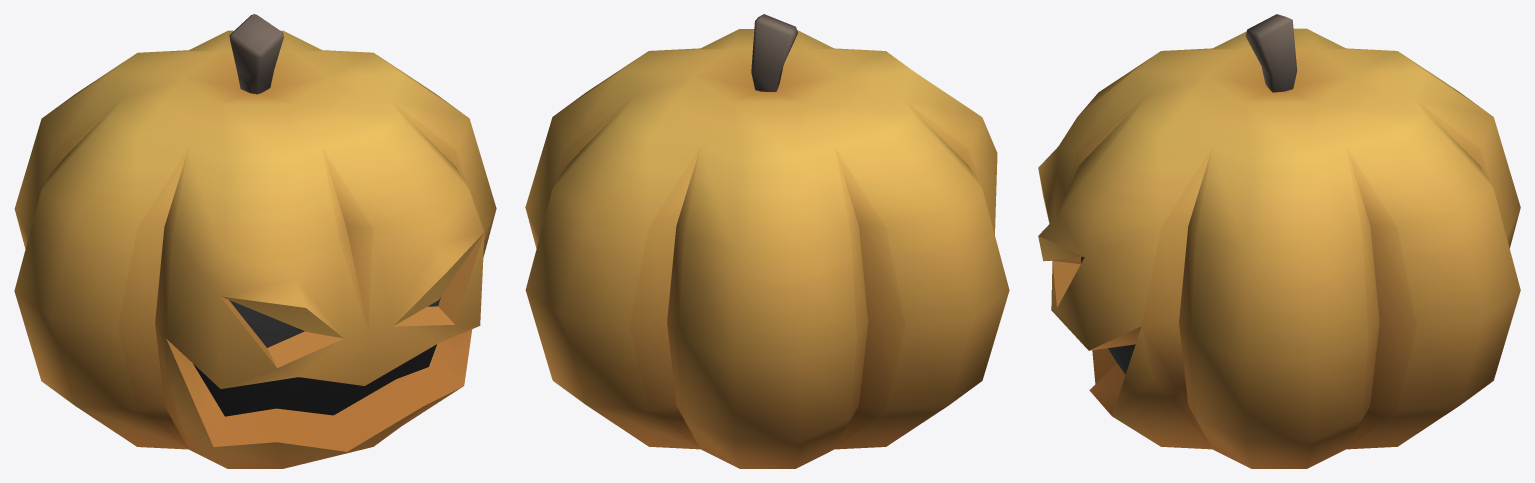
Rendered from pumpkin_yellow_jackolantern.glb.
3 views of the same model, side by side, from view 1: azimuth 30°, elevation 25°; view 2: azimuth 150°, elevation 25°; view 3: azimuth 270°, elevation 25° (orthographic).
Visible parts, largest first — view 1: pumpkin_yellow_jackolantern; view 2: pumpkin_yellow_jackolantern; view 3: pumpkin_yellow_jackolantern.
Part boxes in pixels (box(x1,y1,x2,y2)): pumpkin_yellow_jackolantern: box(14, 14, 496, 468); pumpkin_yellow_jackolantern: box(525, 14, 1009, 468); pumpkin_yellow_jackolantern: box(1038, 14, 1520, 468).
Size of the model in its own units: 1.5 by 1.3 by 1.4.
Materials: 1 (1 with a texture image).
